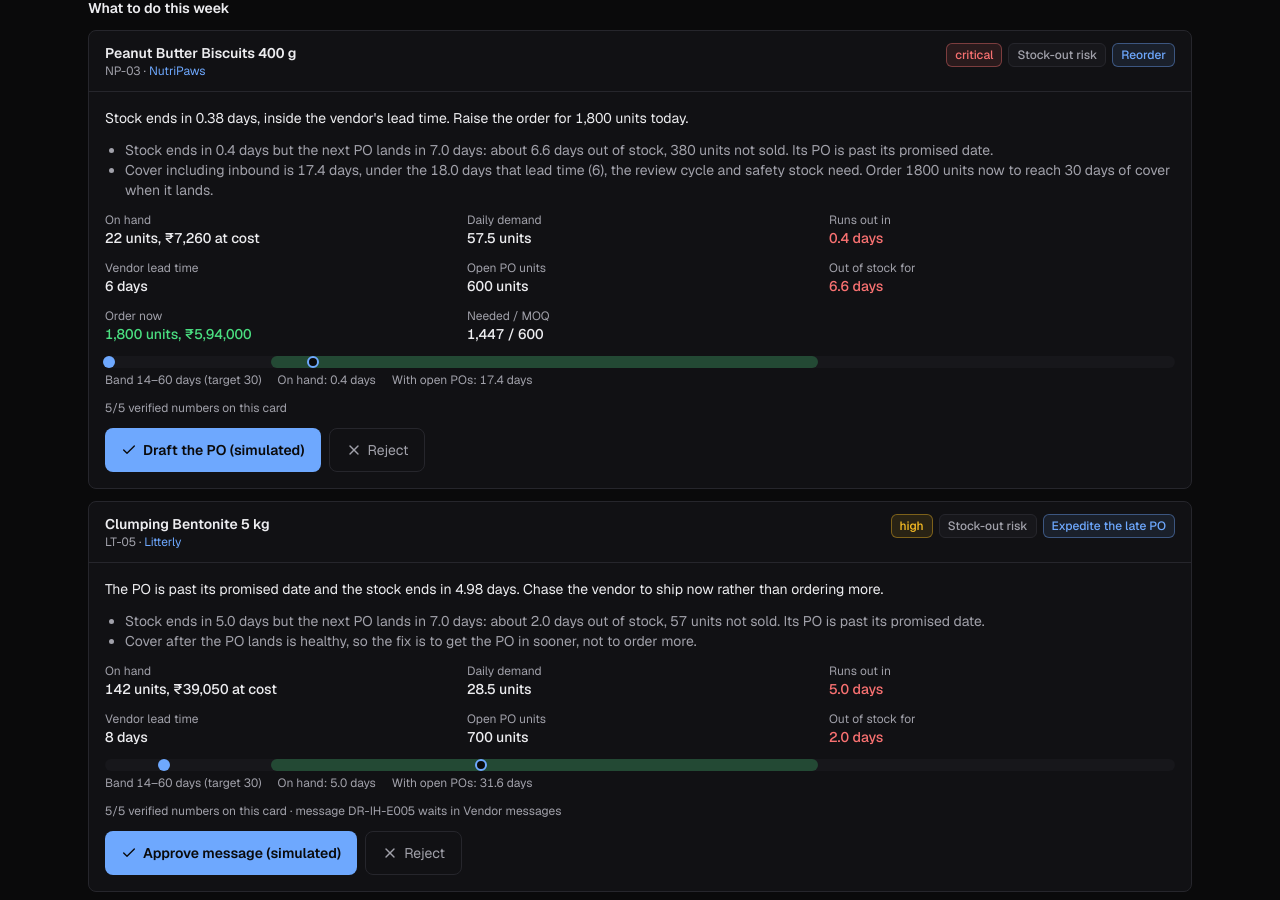
Test: InventoryHealthPage › shows a typed error from an action and keeps the button usable
(page scrolled)
Click the button with aria-label "Draft the PO (simulated) NP-03" at (213, 450), box top-left (105, 428), bottom-right (320, 472)
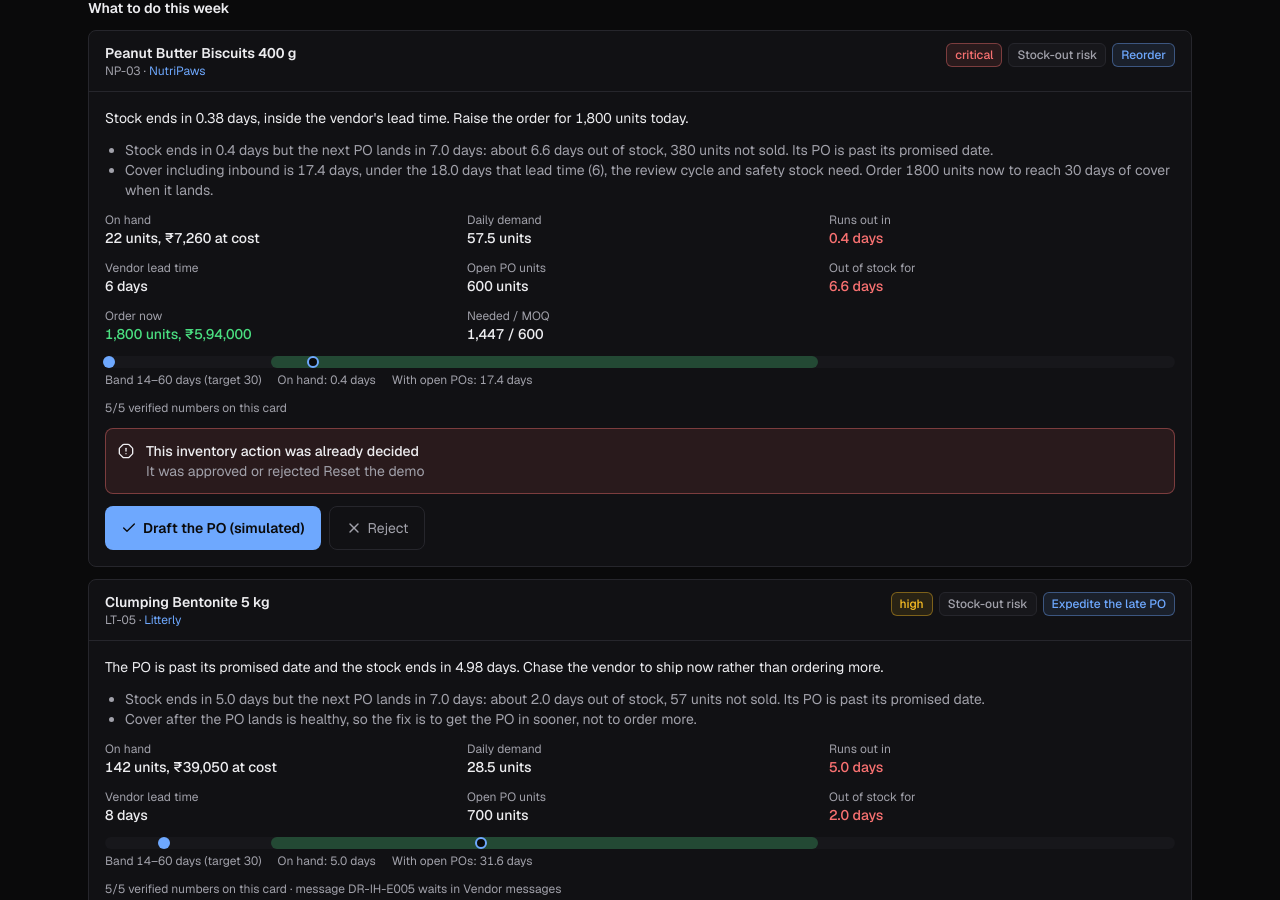
Expected: the button with aria-label "Draft the PO (simulated) NP-03" is enabled, top-left (105, 506), bottom-right (320, 550)
Expected: the text "This inventory action was already decided" is shown, top-left (146, 442), bottom-right (419, 460)
